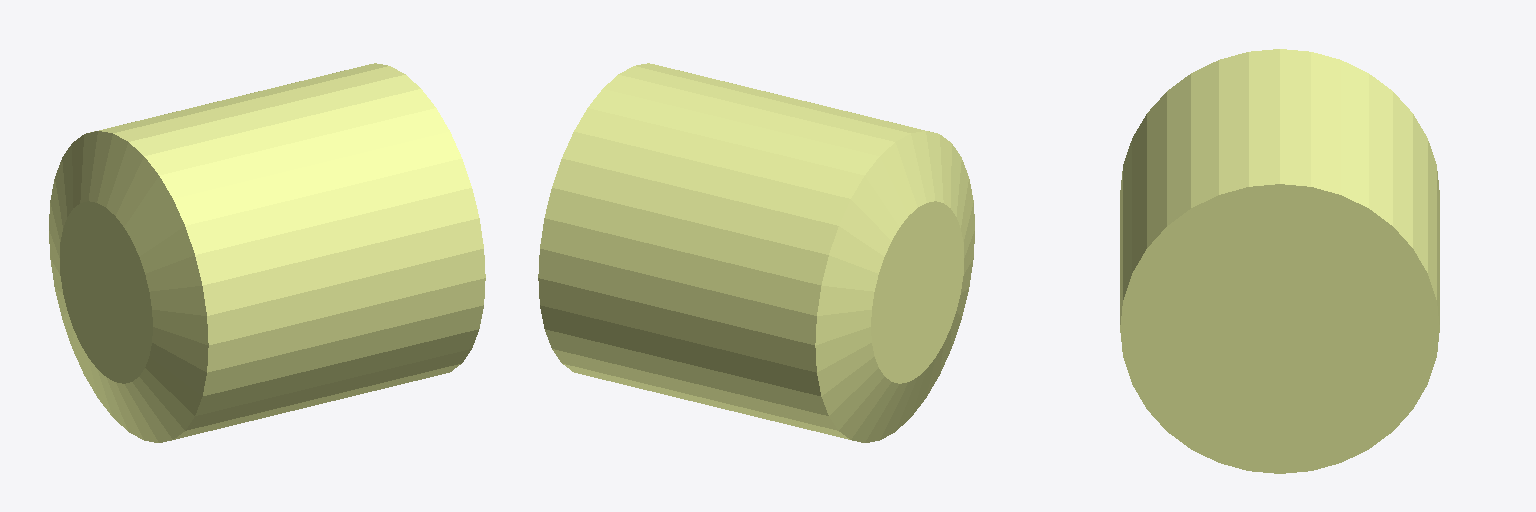
The picture shows the model from 3 angles: view 1: azimuth 30°, elevation 25°; view 2: azimuth 150°, elevation 25°; view 3: azimuth 270°, elevation 25°; orthographic projection.
Parts seen in each view (by area): view 1: 円柱; view 2: 円柱; view 3: 円柱.
Part boxes in pixels (bbox=[...]): 円柱: bbox=[49, 63, 485, 442]; 円柱: bbox=[538, 63, 974, 442]; 円柱: bbox=[1120, 49, 1439, 473].
Size of the model in its own units: 2.16 by 2 by 2.
1 materials, 1 textured.